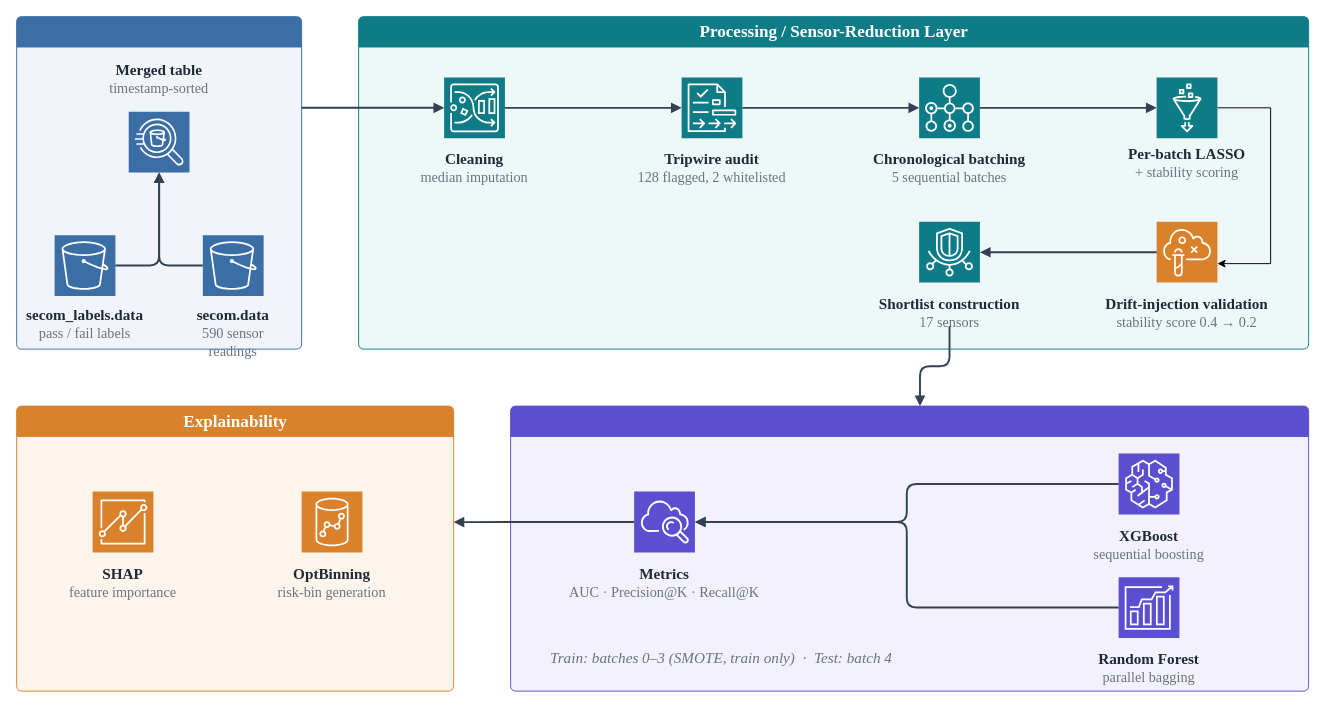
The diagram is 1325 pixels wide and 708 high, and some of its shapes have lost their labels. The box of each missing label's shape, as (x1, y1, x2, y2) in pixels:
Data Layer: (16, 16, 302, 349)
Modeling Layer: (510, 405, 1309, 691)
